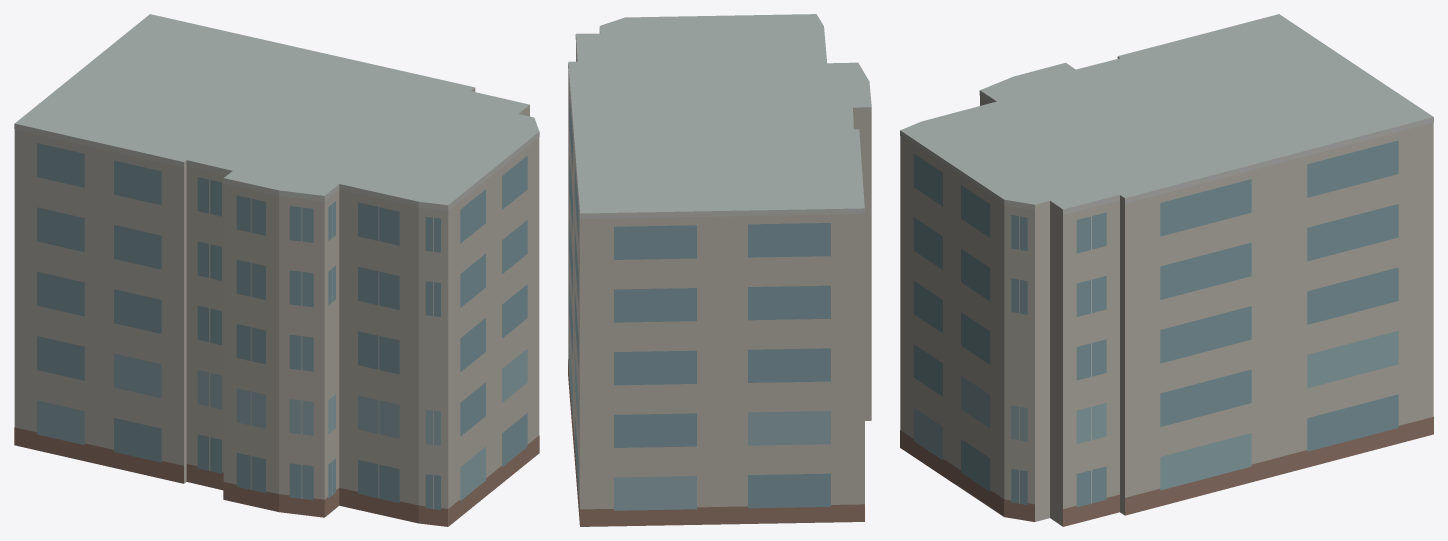
Rendered from survey-upis-32711006.glb.
3 renders of one model, left to right at view 1: azimuth 30°, elevation 25°; view 2: azimuth 150°, elevation 25°; view 3: azimuth 270°, elevation 25°, orthographic. The views are drawn at different scales.
Parts seen in each view (by area): view 1: survey-upis-32711006.tmp; view 2: survey-upis-32711006.tmp; view 3: survey-upis-32711006.tmp.
Boxes of the visible parts, left/top/right/bottom form: survey-upis-32711006.tmp: left=14, top=14, right=539, bottom=526; survey-upis-32711006.tmp: left=568, top=14, right=871, bottom=526; survey-upis-32711006.tmp: left=900, top=14, right=1433, bottom=526.
Size of the model in its own units: 18.62 by 14.09 by 21.48.
